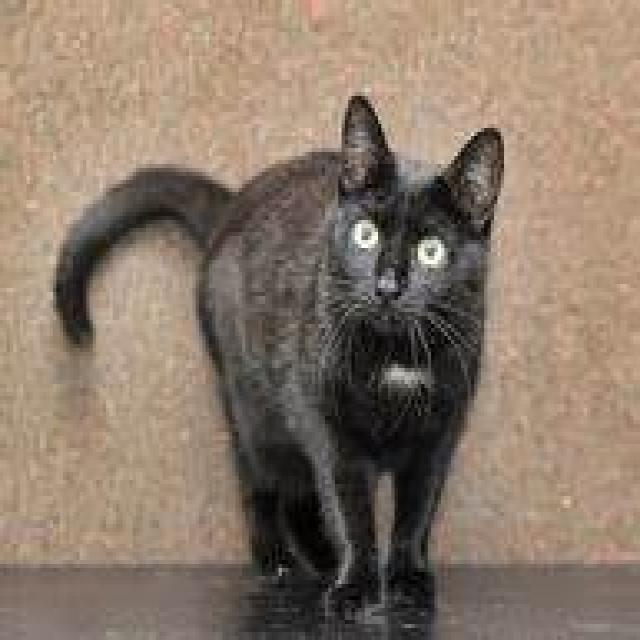animal: (55, 97, 503, 610)
